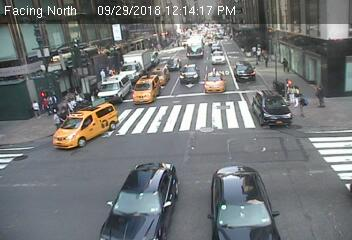car: (97, 161, 183, 240), (210, 163, 282, 240), (54, 102, 116, 145), (249, 88, 289, 127), (99, 75, 130, 104), (132, 75, 159, 108), (119, 49, 150, 75), (200, 68, 230, 94), (184, 34, 204, 60), (232, 60, 255, 81), (147, 64, 168, 84), (178, 64, 197, 82), (164, 55, 179, 72), (210, 50, 228, 64), (210, 42, 222, 51)
